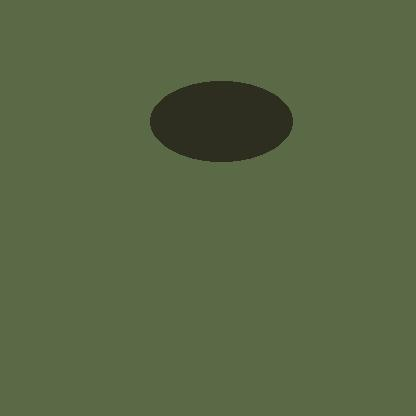pothole: (150, 81, 292, 161)
